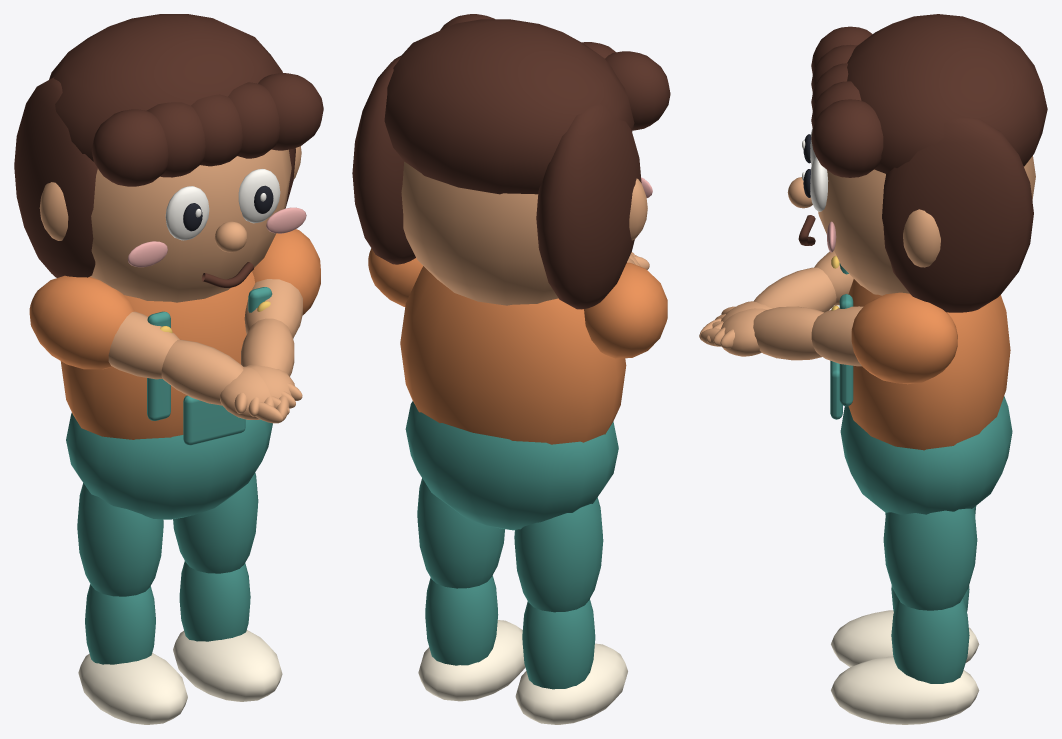
Rendered from ava-clap.glb.
The picture shows the model from 3 angles, left to right: view 1: azimuth 30°, elevation 25°; view 2: azimuth 150°, elevation 25°; view 3: azimuth 270°, elevation 25°; orthographic projection. The views are drawn at different scales.
Parts seen in each view (by area): view 1: hair cap, clay head, overalls, soft shirt, bob hair, shirt sleeve, trouser leg, little shoe, little shoe.001, trouser leg.001, fringe, lower leg (+21 smaller); view 2: hair cap, soft shirt, overalls, bob hair, clay head, trouser leg, bob hair.001, trouser leg.001, shirt sleeve, lower leg.001, lower leg, little shoe (+4 smaller); view 3: bob hair.001, hair cap, soft shirt, overalls, trouser leg.001, shirt sleeve.001, little shoe.001, clay head, lower leg.001, fringe.004, forearm.001, little shoe (+12 smaller).
Boxes of the visible parts, x1=… form: hair cap: x1=49, y1=14, x2=282, y2=161; clay head: x1=90, y1=149, x2=291, y2=302; overalls: x1=66, y1=413, x2=272, y2=519; soft shirt: x1=60, y1=271, x2=254, y2=439; bob hair: x1=14, y1=77, x2=97, y2=277; shirt sleeve: x1=29, y1=275, x2=134, y2=369; trouser leg: x1=77, y1=483, x2=163, y2=596; little shoe: x1=78, y1=653, x2=187, y2=724; little shoe.001: x1=173, y1=630, x2=282, y2=701; trouser leg.001: x1=173, y1=472, x2=258, y2=573; fringe: x1=91, y1=109, x2=168, y2=186; lower leg: x1=85, y1=584, x2=155, y2=664; hair cap: x1=384, y1=19, x2=634, y2=194; soft shirt: x1=400, y1=266, x2=626, y2=444; overalls: x1=405, y1=401, x2=618, y2=530; bob hair: x1=536, y1=104, x2=641, y2=309; clay head: x1=401, y1=161, x2=558, y2=305; trouser leg: x1=514, y1=497, x2=603, y2=612; bob hair.001: x1=352, y1=55, x2=415, y2=264; trouser leg.001: x1=417, y1=478, x2=504, y2=588; shirt sleeve: x1=584, y1=262, x2=667, y2=358; lower leg.001: x1=425, y1=575, x2=498, y2=665; lower leg: x1=522, y1=599, x2=595, y2=689; little shoe: x1=515, y1=643, x2=627, y2=724; bob hair.001: x1=882, y1=117, x2=1033, y2=312; hair cap: x1=847, y1=14, x2=1047, y2=173; soft shirt: x1=848, y1=279, x2=1010, y2=450; overalls: x1=840, y1=396, x2=1012, y2=514; trouser leg.001: x1=883, y1=508, x2=977, y2=610; shirt sleeve.001: x1=851, y1=292, x2=957, y2=384; little shoe.001: x1=831, y1=656, x2=979, y2=724; clay head: x1=818, y1=156, x2=1035, y2=295; lower leg.001: x1=891, y1=598, x2=969, y2=683; fringe.004: x1=811, y1=99, x2=883, y2=177; forearm.001: x1=753, y1=306, x2=823, y2=360; little shoe: x1=831, y1=610, x2=979, y2=667.
Bounding box in the file's own units: 0.8208 × 1.87 × 0.8914.
